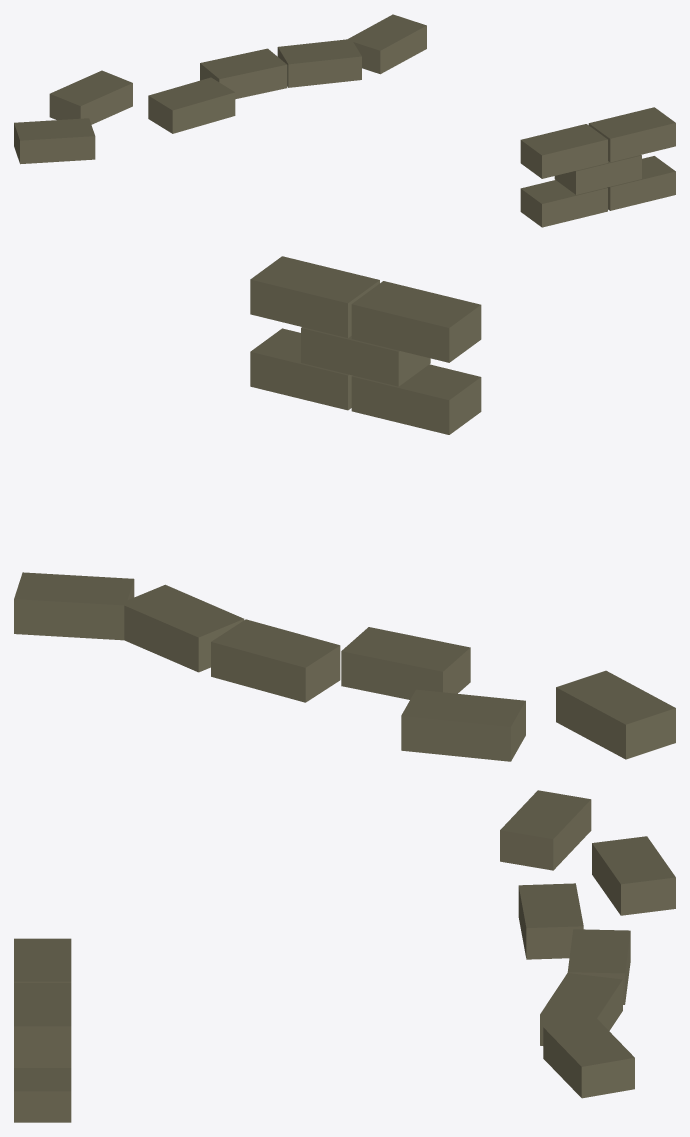
File: SM_ObraSacos_v1_8m_LOD0.fbx
The picture shows the model from 3 angles, top to bottom: view 1: azimuth 30°, elevation 25°; view 2: azimuth 150°, elevation 25°; view 3: azimuth 270°, elevation 25°; orthographic projection. The views are drawn at different scales.
Parts seen in each view (by area): view 1: SM_obra_curso_v2_LOD0; view 2: SM_obra_curso_v2_LOD0; view 3: SM_obra_curso_v2_LOD0.
Boxes of the visible parts, bbox=[...] form: SM_obra_curso_v2_LOD0: bbox=[14, 14, 675, 227]; SM_obra_curso_v2_LOD0: bbox=[14, 256, 675, 761]; SM_obra_curso_v2_LOD0: bbox=[14, 790, 675, 1122].
Bounding box in the file's own units: 5.95 × 0.89 × 5.53.
